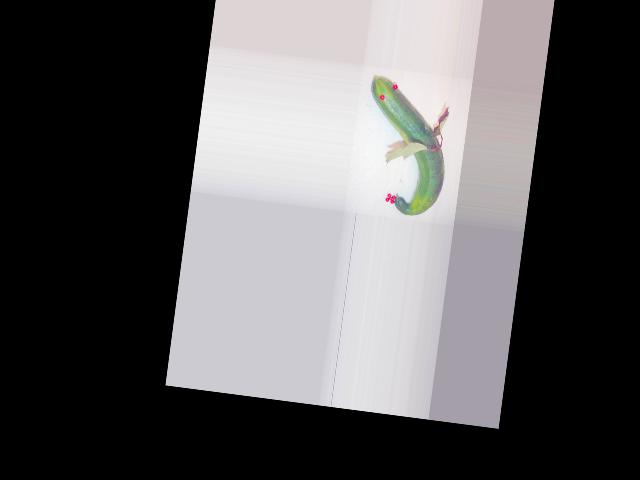cucumber: (355, 76, 455, 219)
